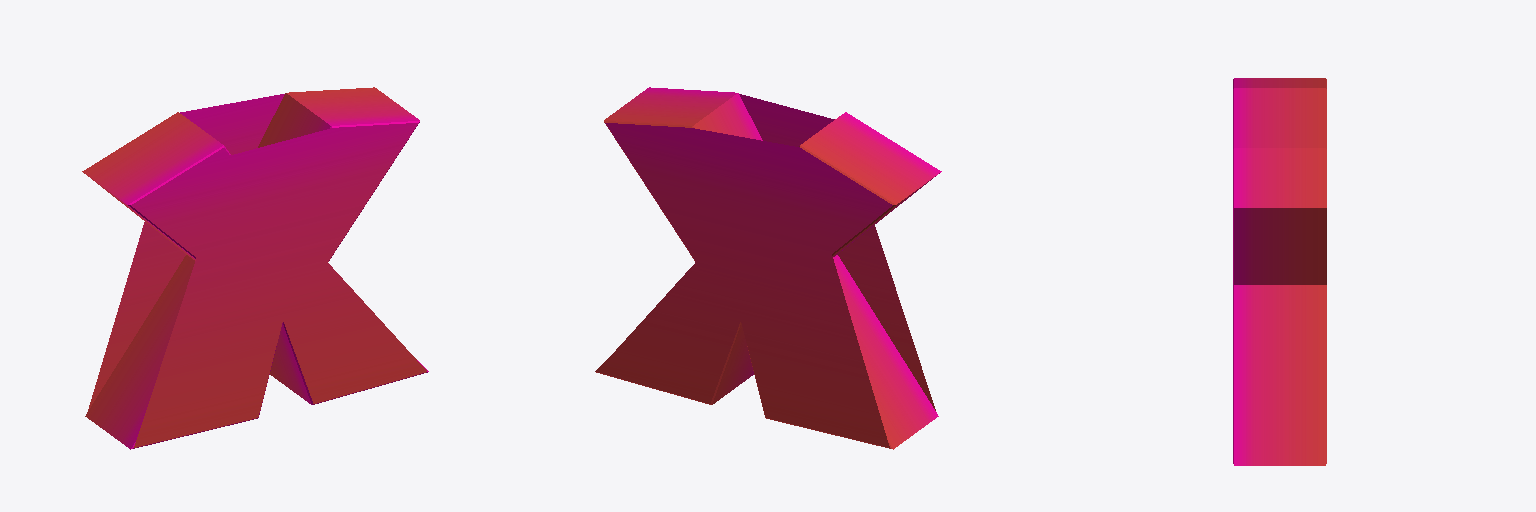
3 renders of one model, left to right at view 1: azimuth 30°, elevation 25°; view 2: azimuth 150°, elevation 25°; view 3: azimuth 270°, elevation 25°, orthographic.
Parts seen in each view (by area): view 1: polySurface1; view 2: polySurface1; view 3: polySurface1.
Boxes of the visible parts, x1=… form: polySurface1: x1=82, y1=87, x2=428, y2=449; polySurface1: x1=595, y1=87, x2=941, y2=449; polySurface1: x1=1233, y1=78, x2=1326, y2=465.
Bounding box in the file's own units: 2.44 × 2.17 × 0.6578.
1 materials, 1 textured.